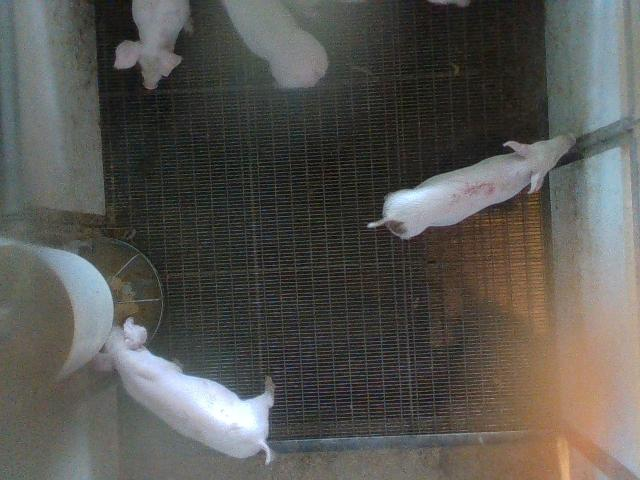pig-5: (368, 134, 575, 239)
